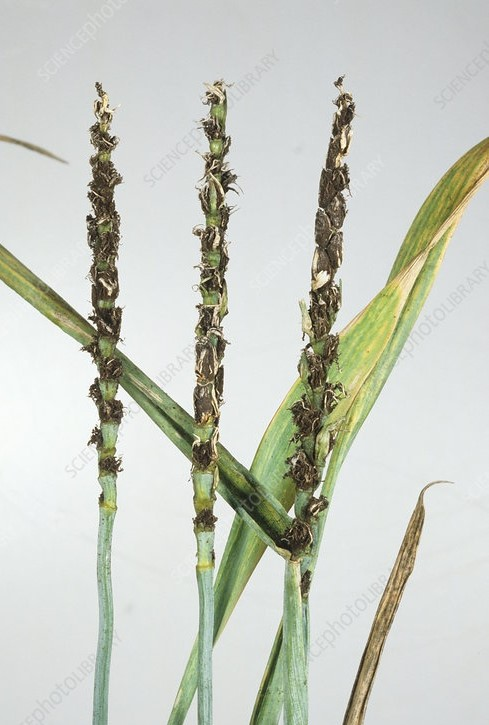Wheat Loose Smut: (180, 70, 360, 515), (69, 81, 146, 441)
